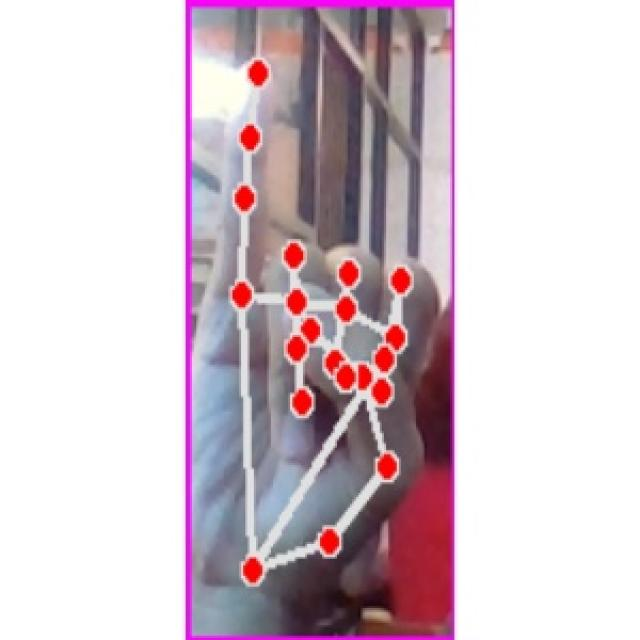I: (200, 47, 442, 614)
